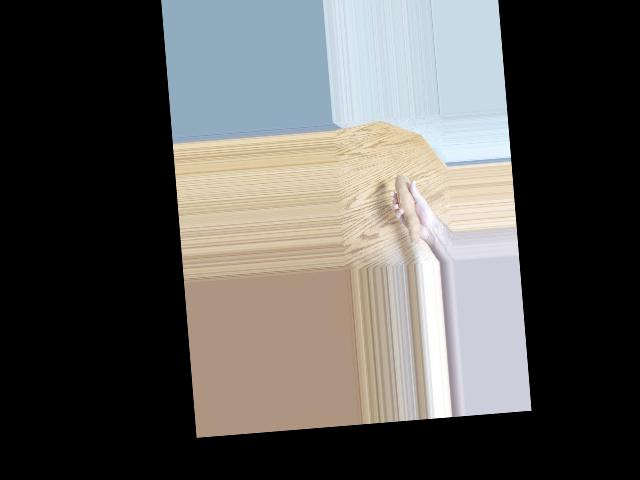sweet_potato: (393, 171, 428, 251)
